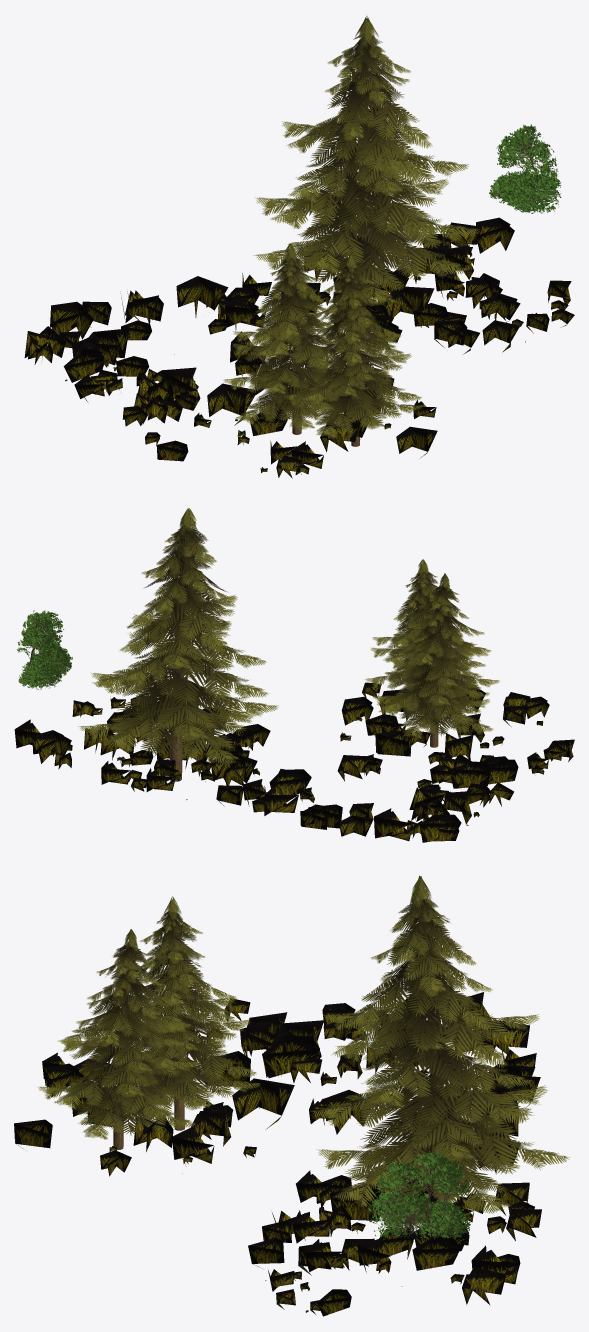
The picture shows the model from 3 angles, top to bottom: view 1: azimuth 30°, elevation 25°; view 2: azimuth 150°, elevation 25°; view 3: azimuth 270°, elevation 25°; orthographic projection. The views are drawn at different scales.
Parts seen in each view (by area): view 1: Low Poly Stylized 2D Grass.1734; view 2: Low Poly Stylized 2D Grass.1734; view 3: Low Poly Stylized 2D Grass.1734.
Boxes of the visible parts, x1,y1,x2,y2 form: Low Poly Stylized 2D Grass.1734: (24,16,574,478); Low Poly Stylized 2D Grass.1734: (14,508,574,842); Low Poly Stylized 2D Grass.1734: (14,875,569,1316).
Bounding box in the file's own units: 25.25 × 14.5 × 20.83.
5 materials, 4 textured.
